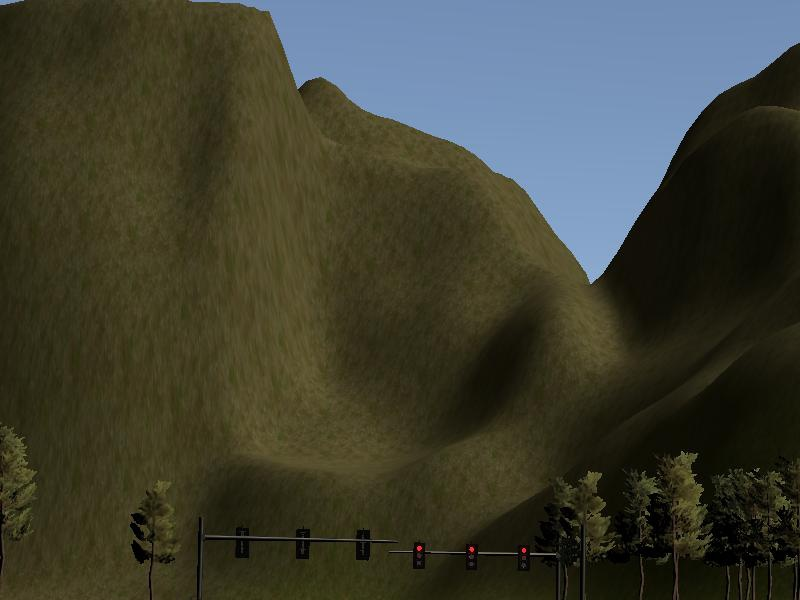red_light: (414, 541, 426, 568), (465, 545, 477, 569), (520, 544, 530, 569)
